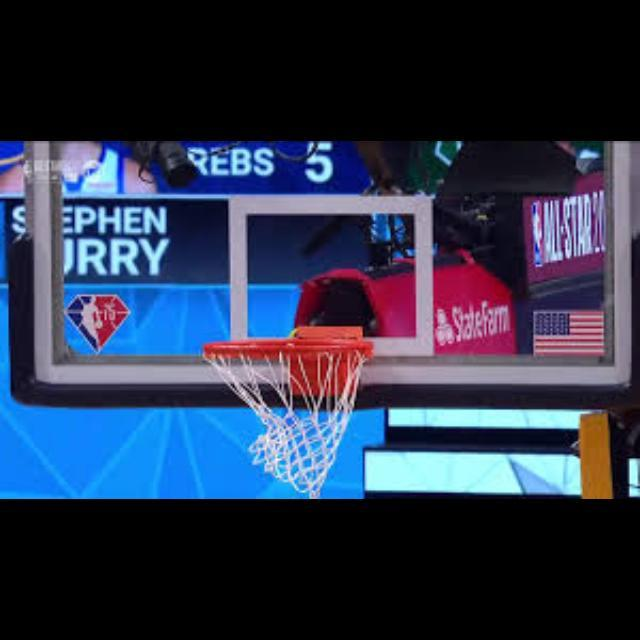rim: (205, 339, 367, 493)
